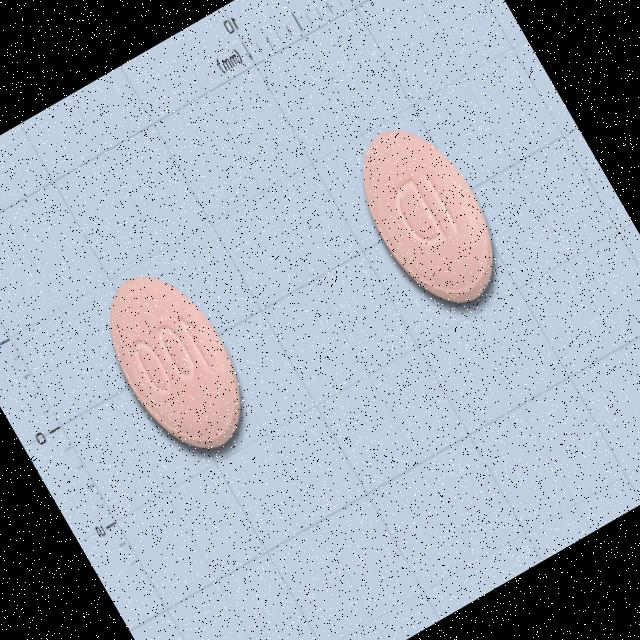Flomox: (334, 107, 520, 326), (82, 254, 268, 471)
